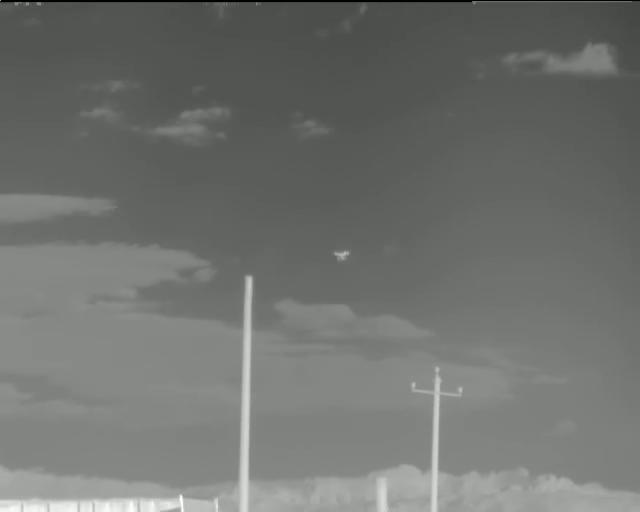uav: (331, 249, 351, 264)
